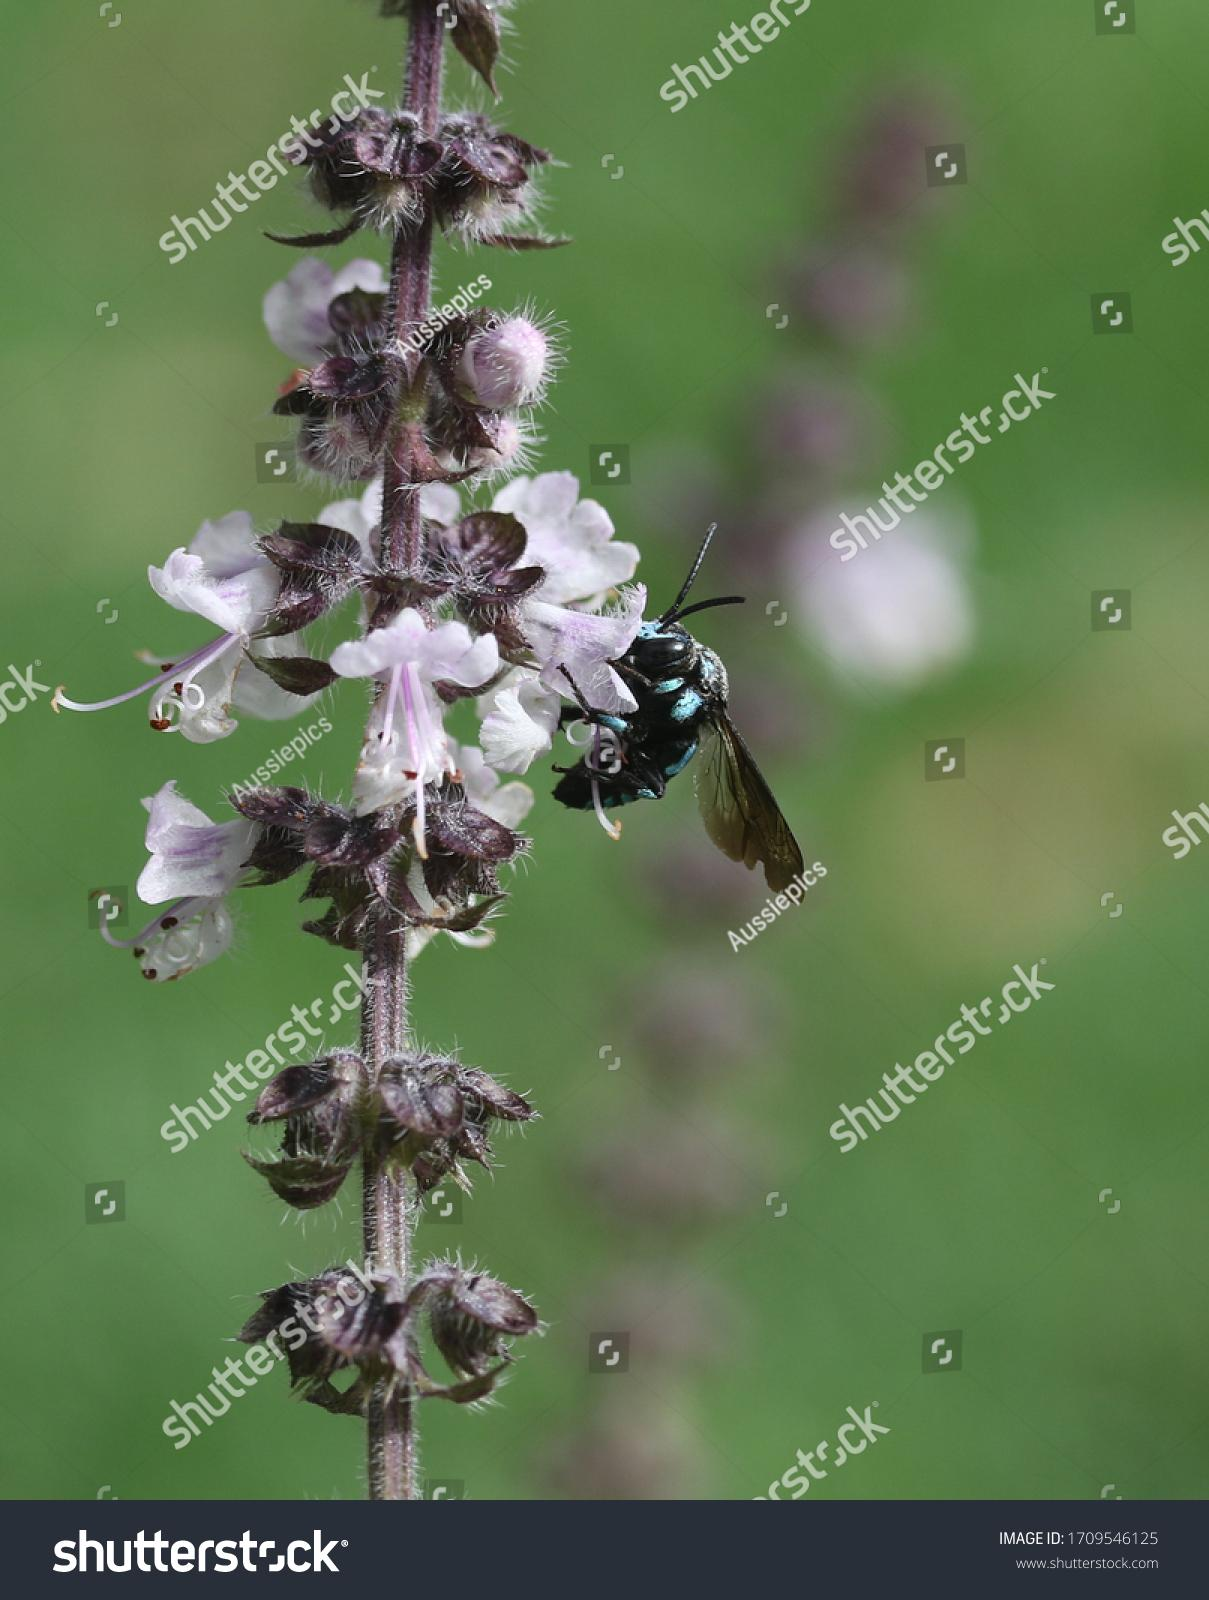Thyreus: (546, 502, 829, 905)
